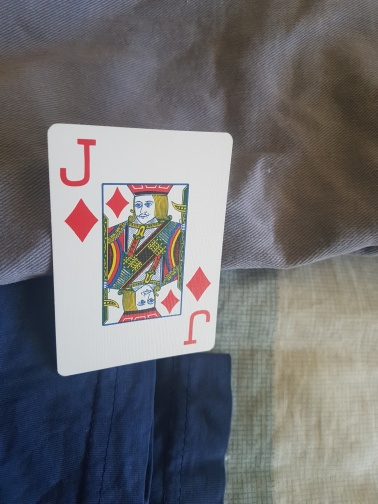jack: (47, 121, 234, 376)
